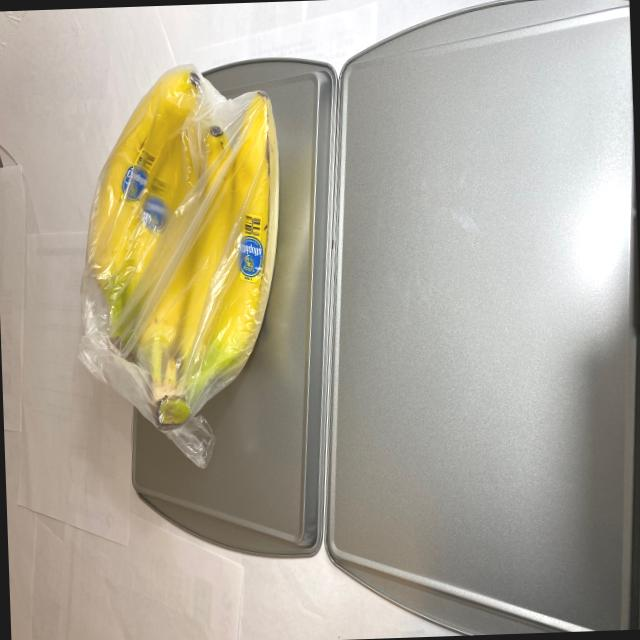banana: (65, 65, 298, 449)
